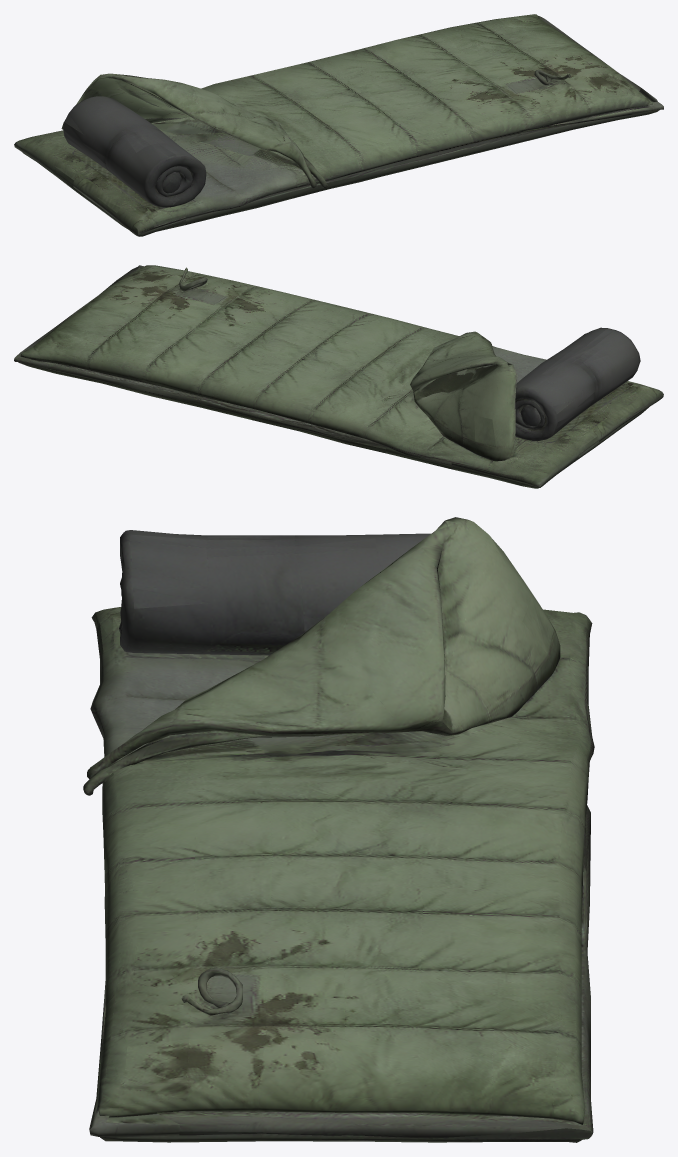
The model's file is bag.glb.
3 views of the same model, one above another, from view 1: azimuth 30°, elevation 25°; view 2: azimuth 150°, elevation 25°; view 3: azimuth 270°, elevation 25° (orthographic). The views are drawn at different scales.
Visible parts, largest first — view 1: Mesh_0; view 2: Mesh_0; view 3: Mesh_0.
Boxes of the visible parts, x1,y1,x2,y2 form: Mesh_0: [14, 14, 663, 236]; Mesh_0: [14, 265, 663, 488]; Mesh_0: [83, 517, 594, 1142].
Size of the model in its own units: 1.9 by 0.3083 by 0.8.
1 material, 1 textured.
